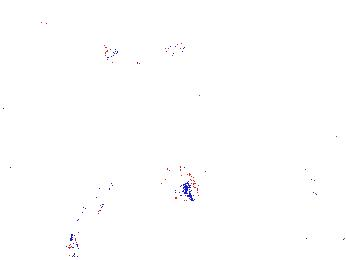X-ray fish: (150, 159, 197, 203)
glassfish: (68, 160, 123, 256), (193, 129, 275, 185)
red belly glassfish: (165, 87, 207, 103), (26, 18, 51, 38)
redtail glassfish: (100, 33, 189, 65)
